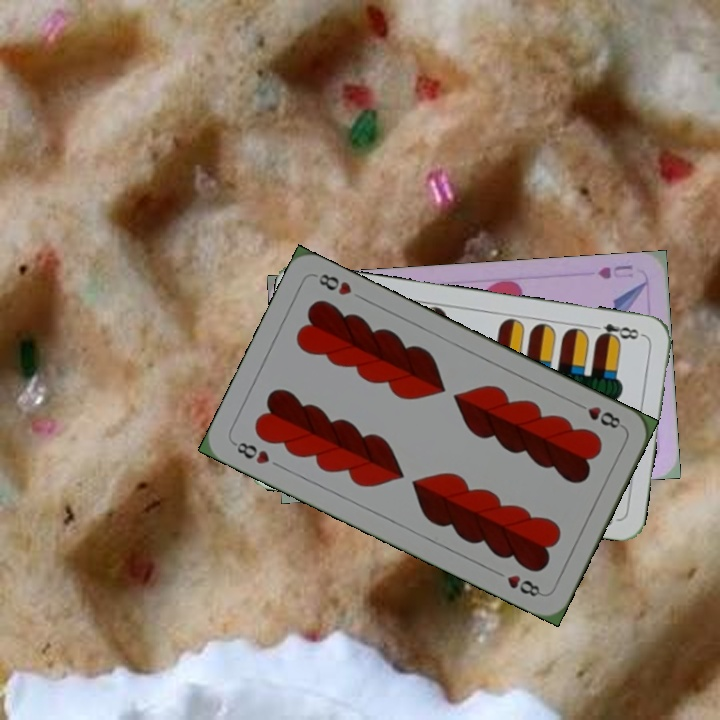E8: (587, 319, 646, 344)
H8: (571, 398, 626, 432), (229, 438, 273, 467)
HU: (593, 260, 635, 282)
